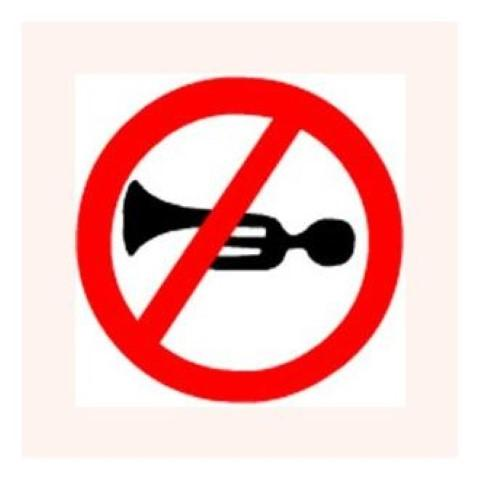Horn Prohibited: (51, 71, 413, 418)
